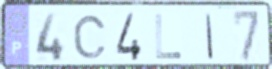4: (34, 11, 68, 64), (115, 11, 143, 62)
7: (232, 8, 262, 65)
C: (71, 14, 109, 61)
I: (205, 12, 215, 61)
L: (154, 13, 184, 61)
